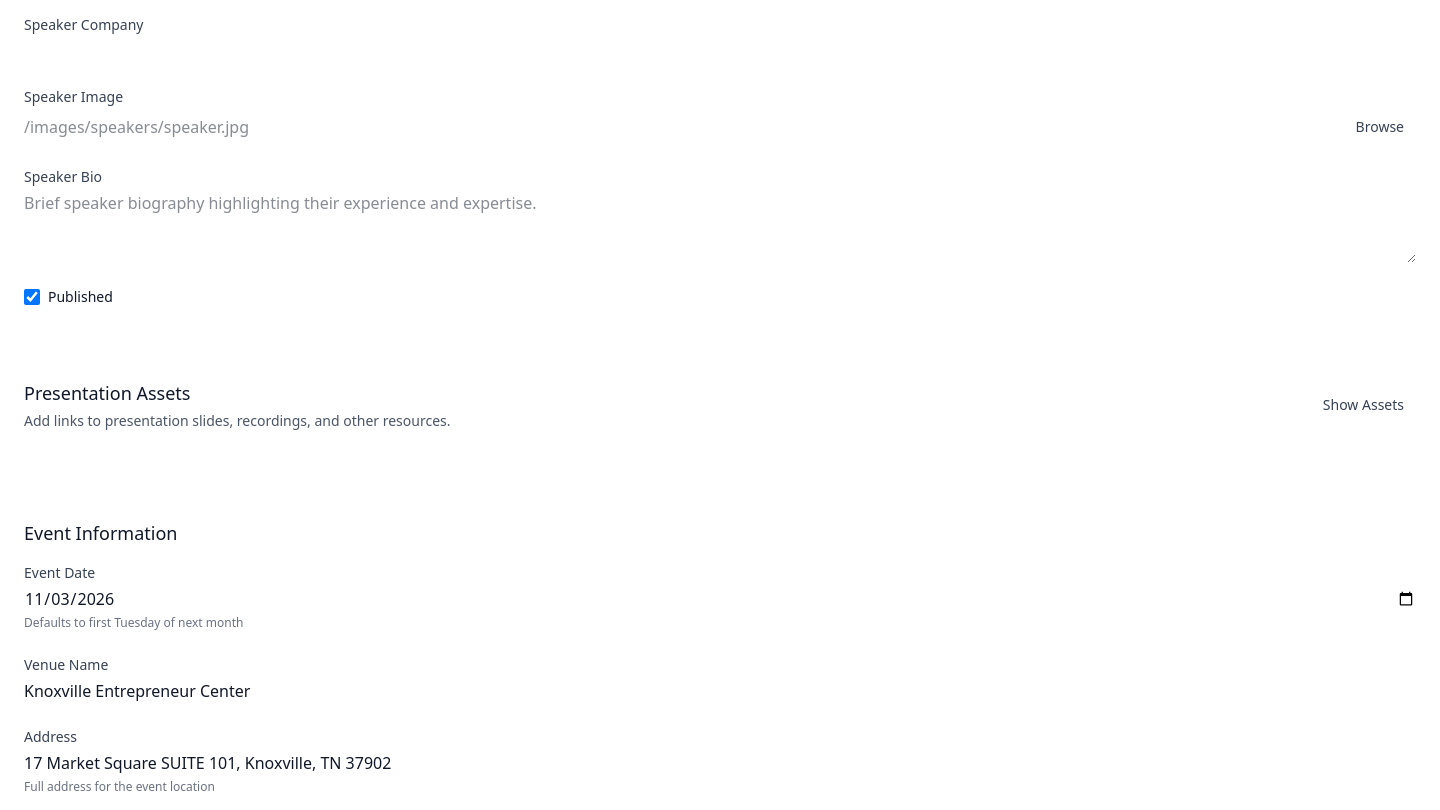
Test case: BlogPostEditor - new post mode › shows an 'enter title and date' empty state for assets before a slug exists
(page scrolled)
Click the button "Show Assets": (1363, 405) [1311,389,1416,421]
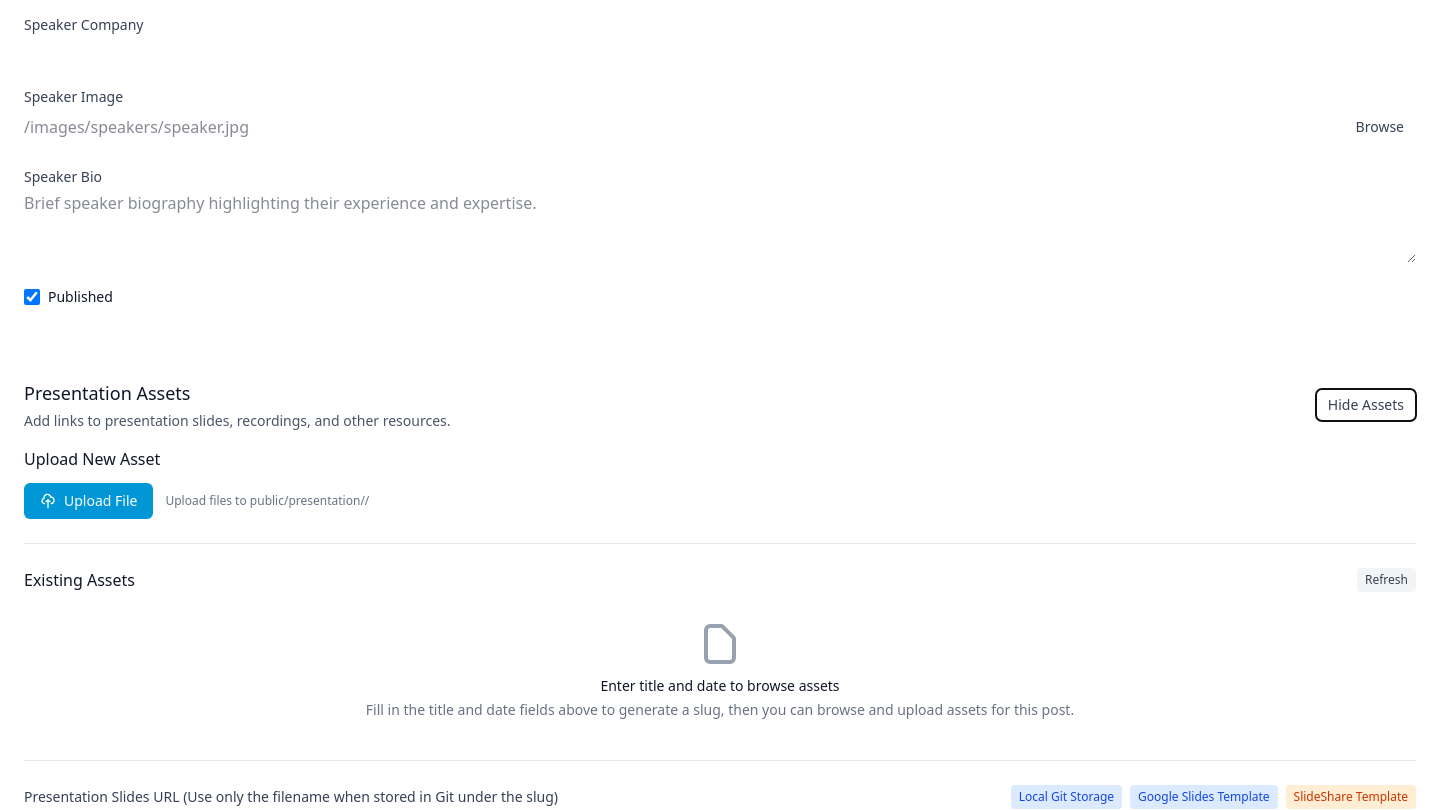
Now the heading "Enter title and date to browse assets" is shown, box [600,676,840,695]
